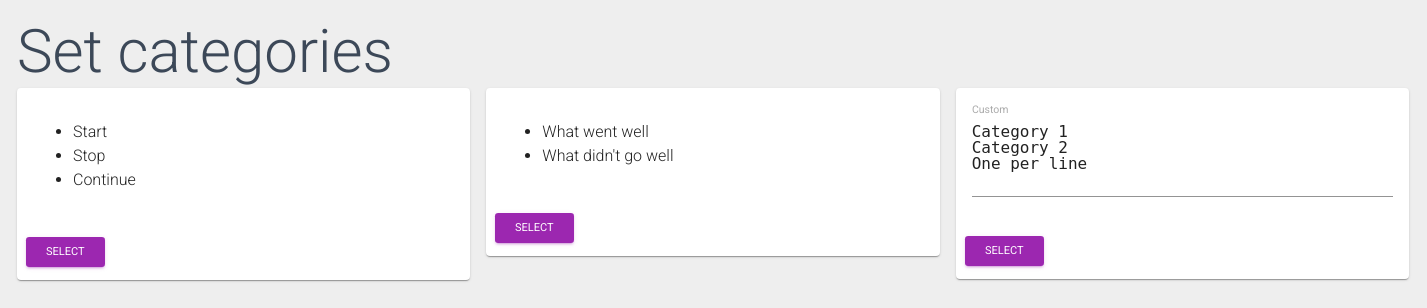
Retrospective Presenter › when the presenter selects the Start/Stop/Continue preset › shows each category waiting for ideas
The image size is (1427, 308).
Click the button "Select" below "Continue" at coordinates (65, 252), box left=26, top=237, right=104, bottom=266
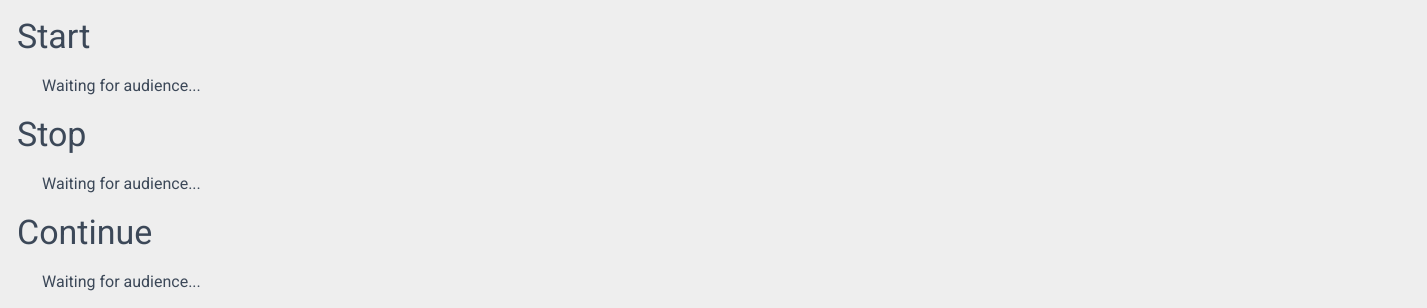
Check: the heading "Start" is shown, box left=17, top=16, right=90, bottom=56
Check: the text "Waiting for audience..." is shown 3 times, box left=42, top=76, right=201, bottom=95; left=42, top=174, right=201, bottom=193; left=42, top=272, right=201, bottom=291
